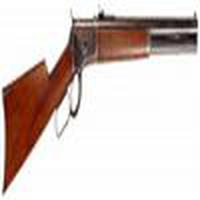gun: (1, 14, 200, 186)
